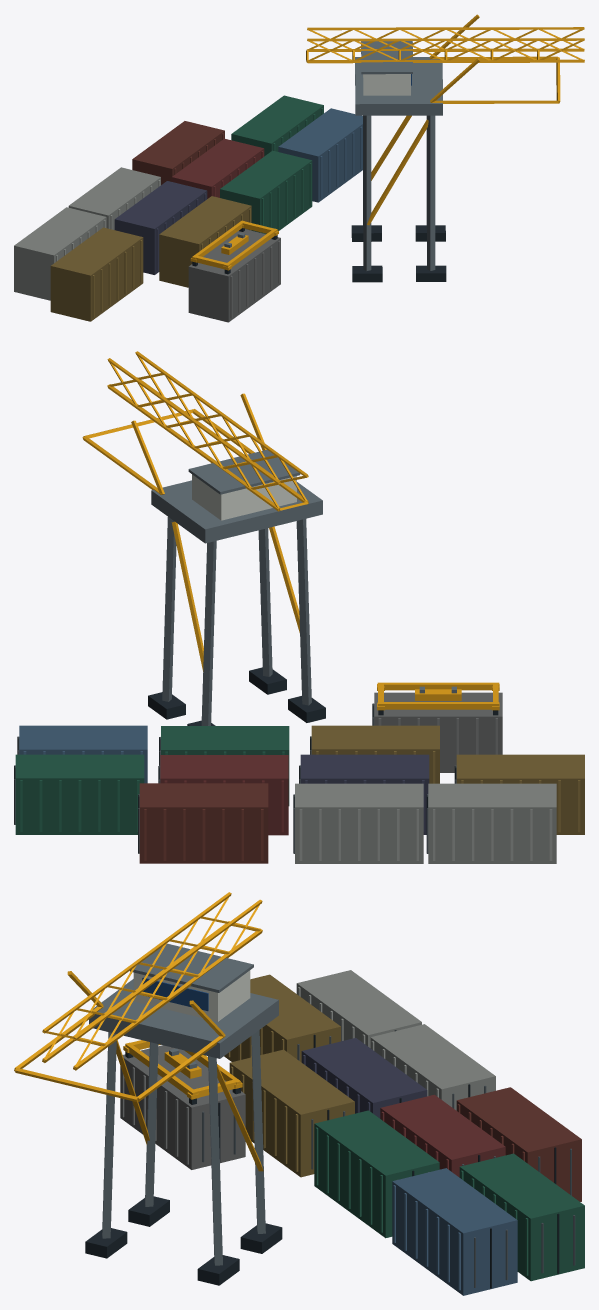
Rendered from SeaportSystem-02-ShipToShoreGantryCrane-01-20Footer-2-01.glb.
3 renders of one model, top to bottom at view 1: azimuth 30°, elevation 25°; view 2: azimuth 150°, elevation 25°; view 3: azimuth 270°, elevation 25°, orthographic. The views are drawn at different scales.
Parts seen in each view (by area): view 1: SeaportSystem-02-ShipToShoreGantryCrane-01-20Footer-2-01; view 2: SeaportSystem-02-ShipToShoreGantryCrane-01-20Footer-2-01; view 3: SeaportSystem-02-ShipToShoreGantryCrane-01-20Footer-2-01.
Boxes of the visible parts, box(x1,y1,x2,y2) form: SeaportSystem-02-ShipToShoreGantryCrane-01-20Footer-2-01: box(14, 14, 584, 322); SeaportSystem-02-ShipToShoreGantryCrane-01-20Footer-2-01: box(14, 351, 584, 863); SeaportSystem-02-ShipToShoreGantryCrane-01-20Footer-2-01: box(14, 892, 584, 1295).
Size of the model in its own units: 68.02 by 31.18 by 52.94.
